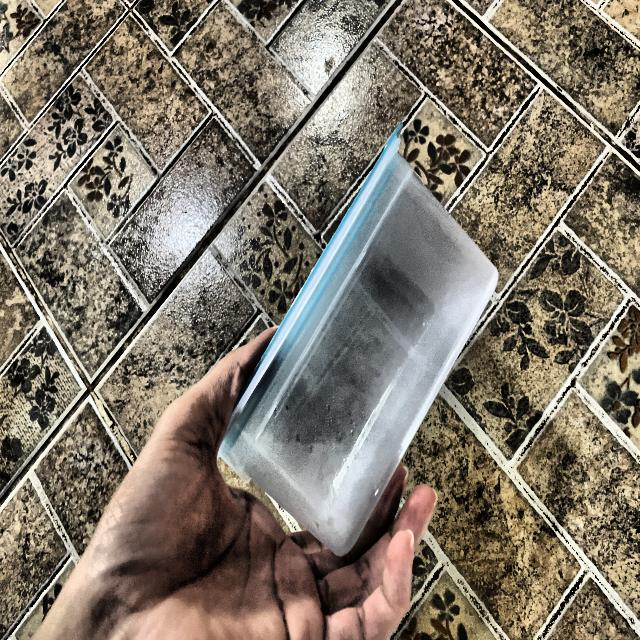plastic container: (228, 120, 498, 550)
